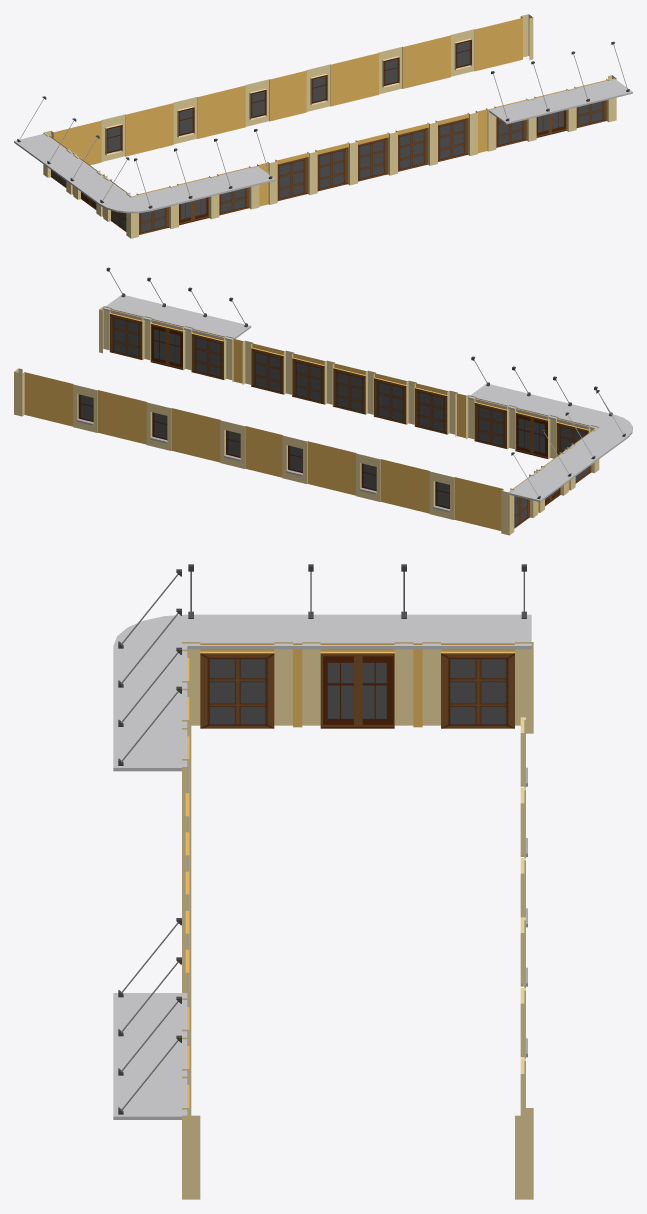
The model's file is BuildingSmall2_1.fbx.
The picture shows the model from 3 angles, top to bottom: view 1: azimuth 30°, elevation 25°; view 2: azimuth 150°, elevation 25°; view 3: azimuth 270°, elevation 25°; orthographic projection. The views are drawn at different scales.
Parts seen in each view (by area): view 1: BuildingSmall2_1; view 2: BuildingSmall2_1; view 3: BuildingSmall2_1.
Boxes of the visible parts, x1,y1,x2,y2 form: BuildingSmall2_1: [14, 14, 632, 238]; BuildingSmall2_1: [14, 267, 632, 535]; BuildingSmall2_1: [113, 564, 533, 1199].
Bounding box in the file's own units: 6430 × 948 × 2270.
